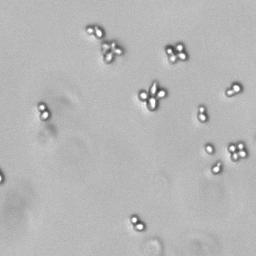budding: (130, 214, 145, 232), (224, 82, 242, 97), (86, 25, 104, 39), (37, 102, 50, 121), (196, 104, 208, 123), (211, 162, 223, 174)
cluster: (137, 79, 168, 112), (163, 40, 190, 66), (101, 40, 124, 65), (227, 141, 249, 162)
individual: (204, 144, 215, 155)
